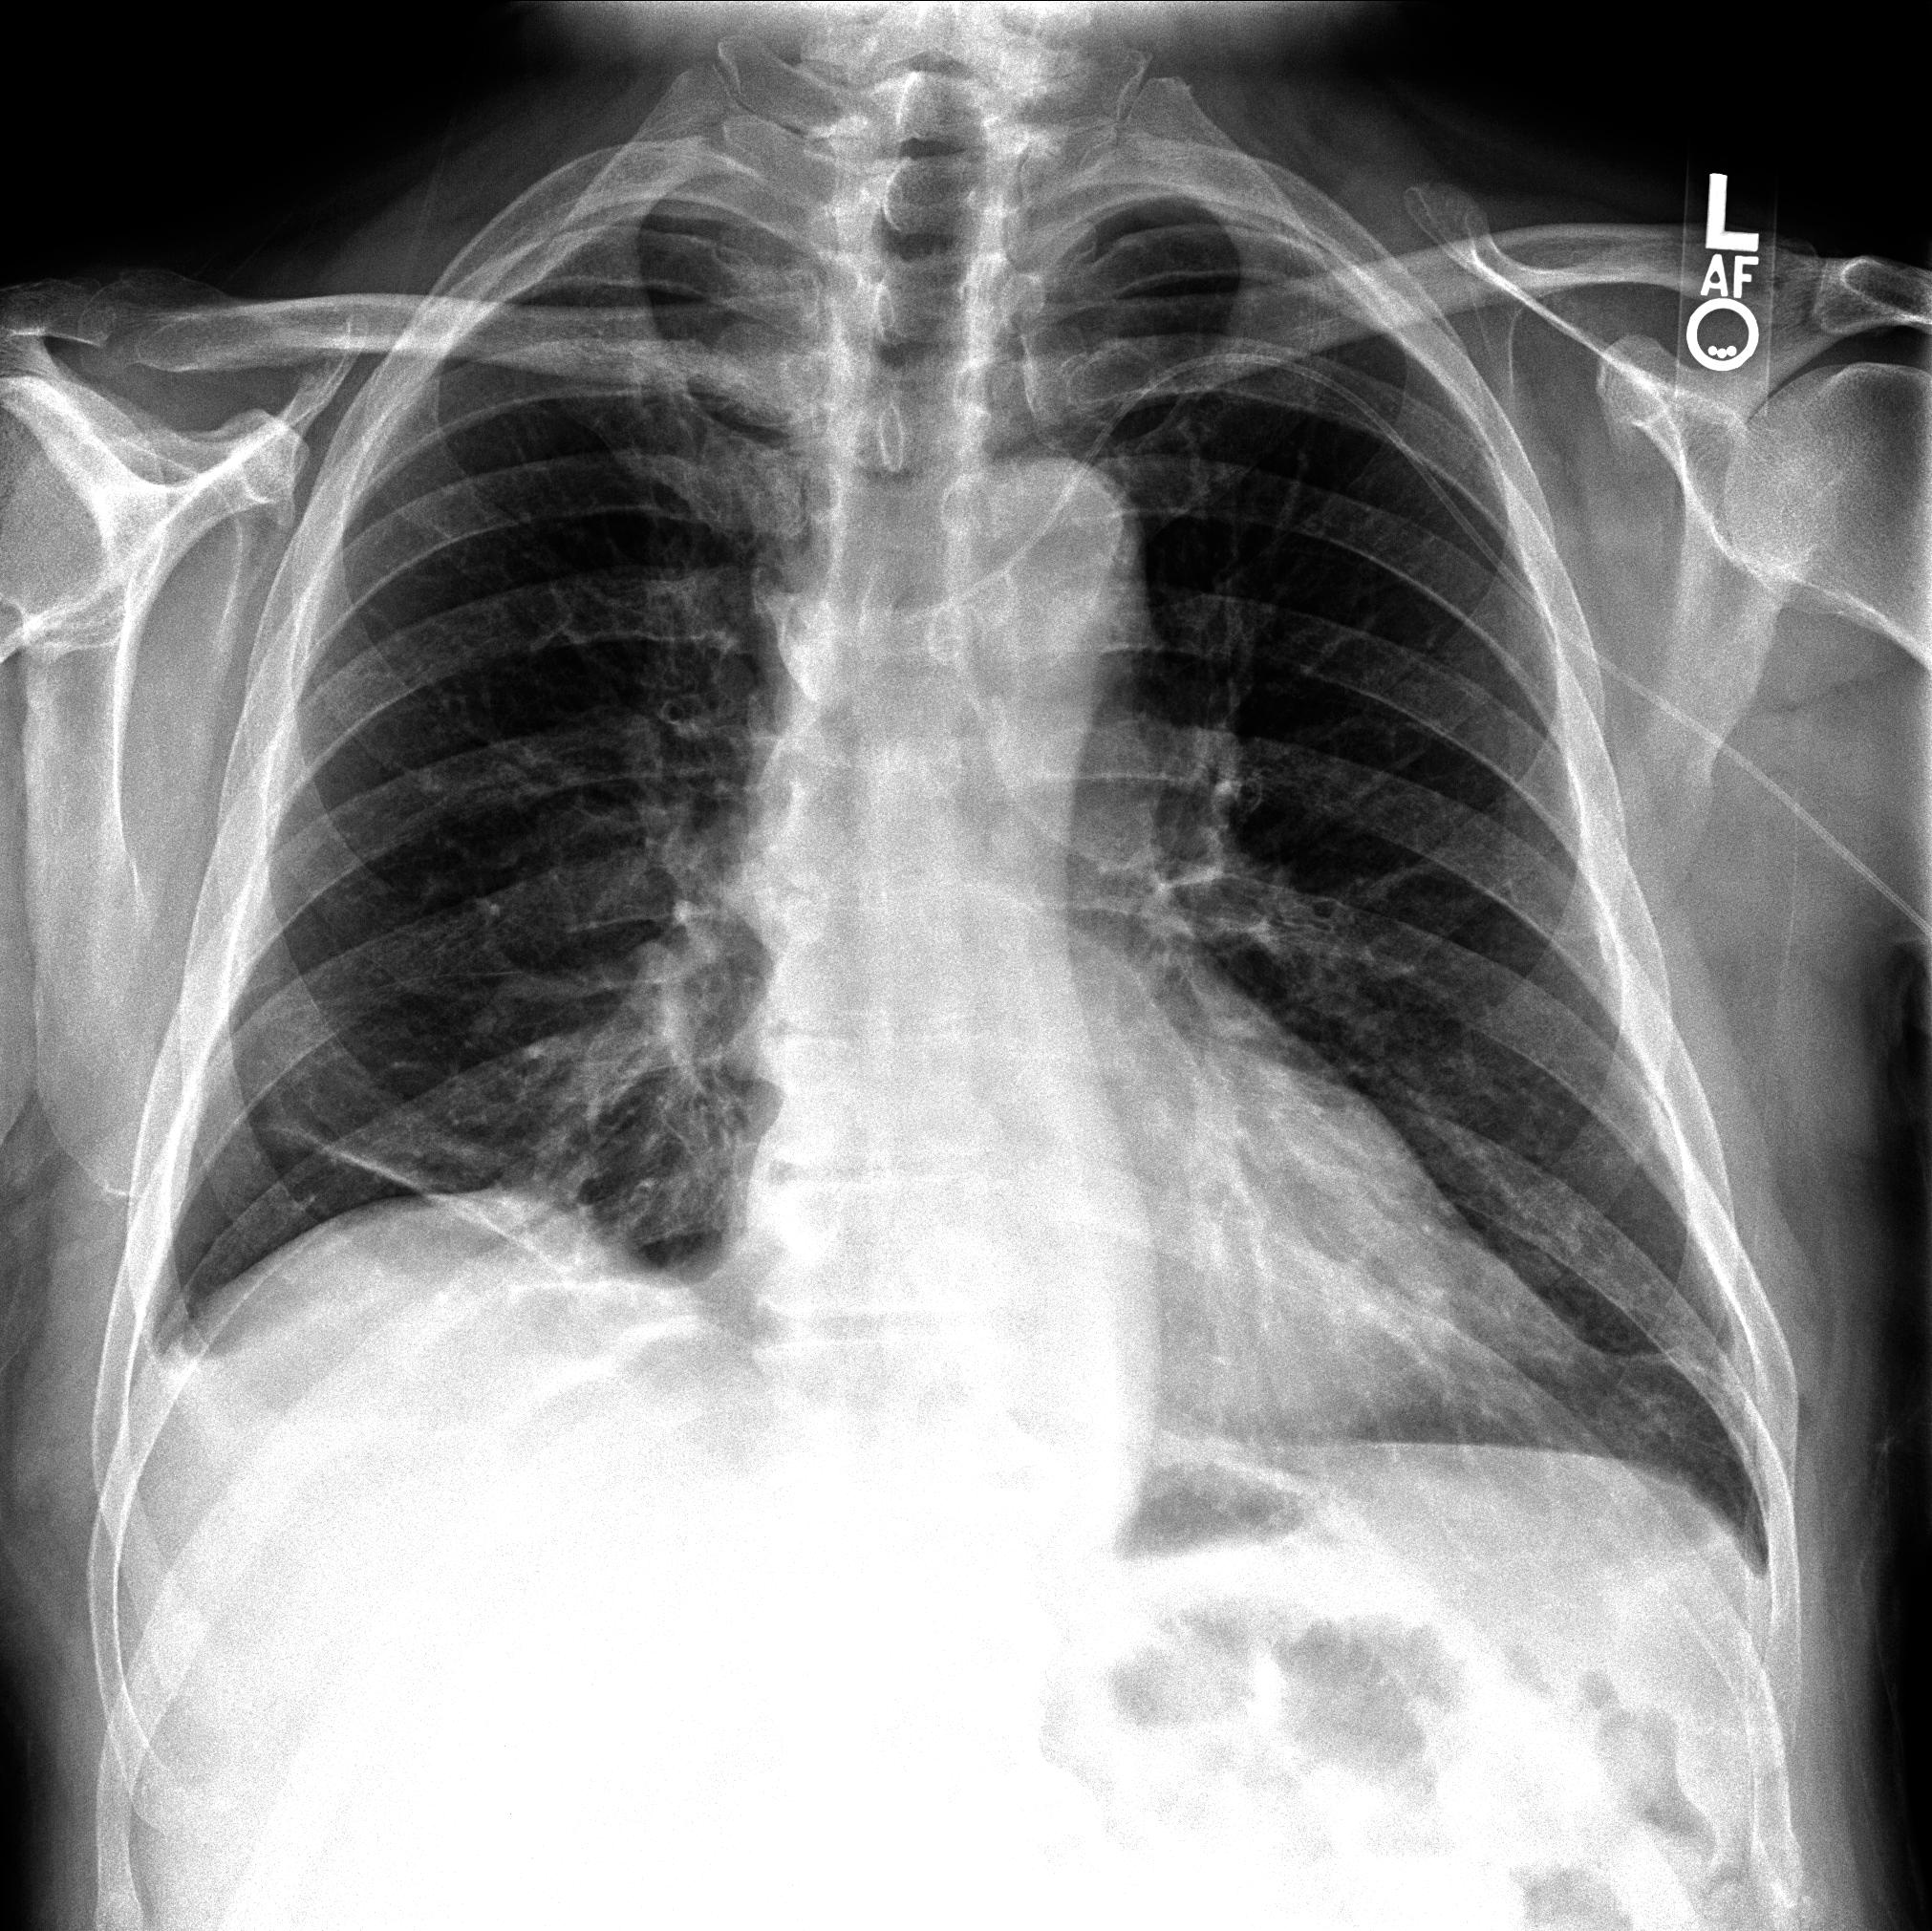Pleural Effusion: (85, 1301, 410, 1597)
